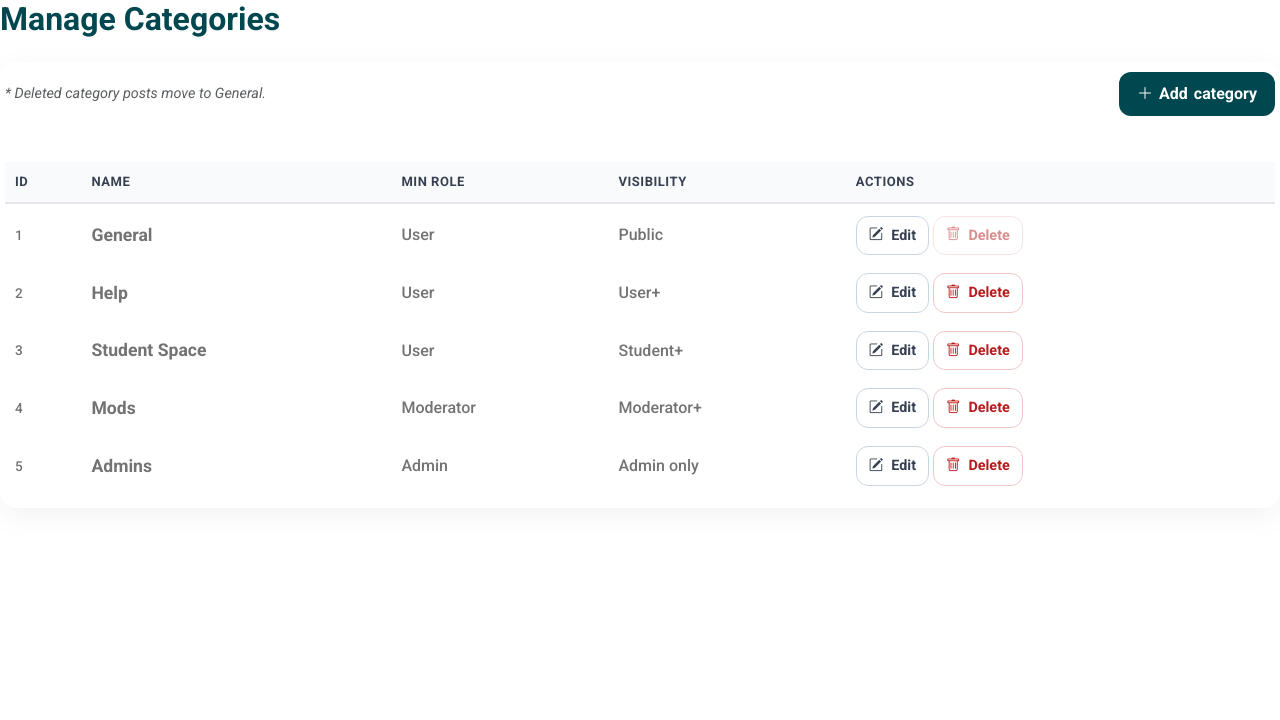
Manage Categories Visibility (Admin) — AdminCategories.vue › opens edit modal with numeric visibility converted to string
Click the button with class "btn-action" in the row of "Student Space" at (892, 350), box [856,331,929,370]
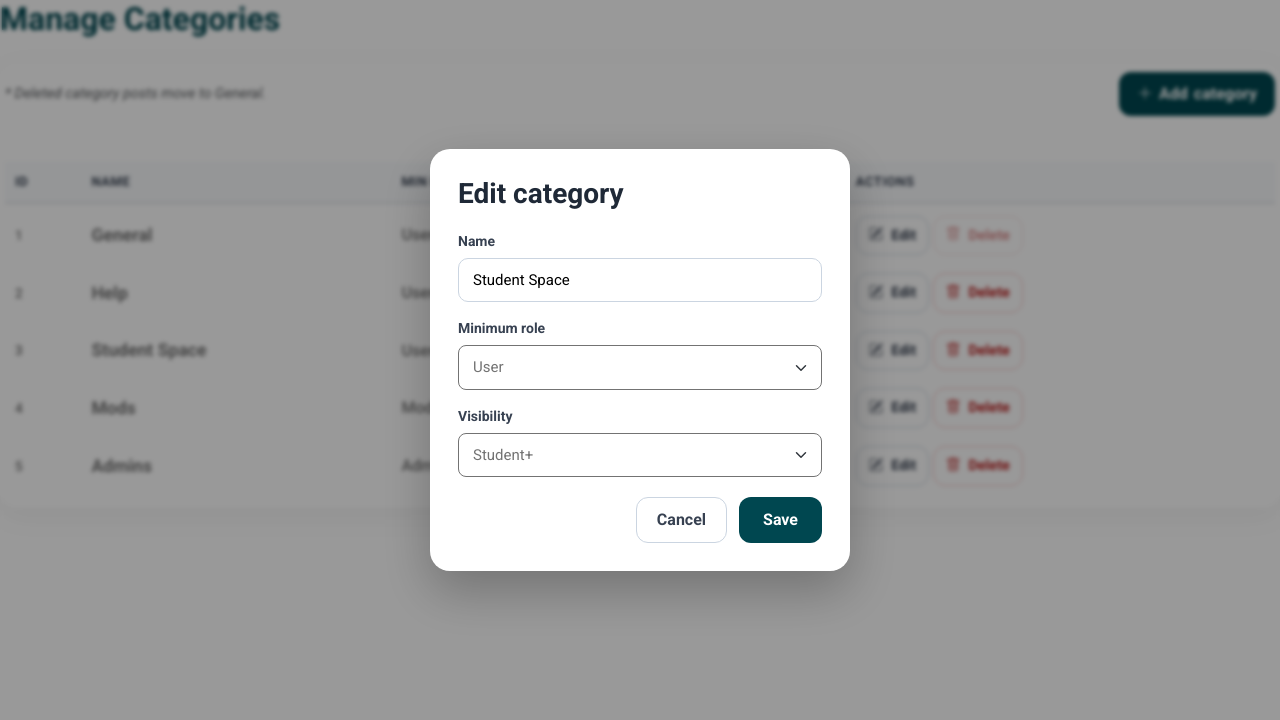
Result: the 2nd dropdown shows "Student+" at [458,433,822,477]
